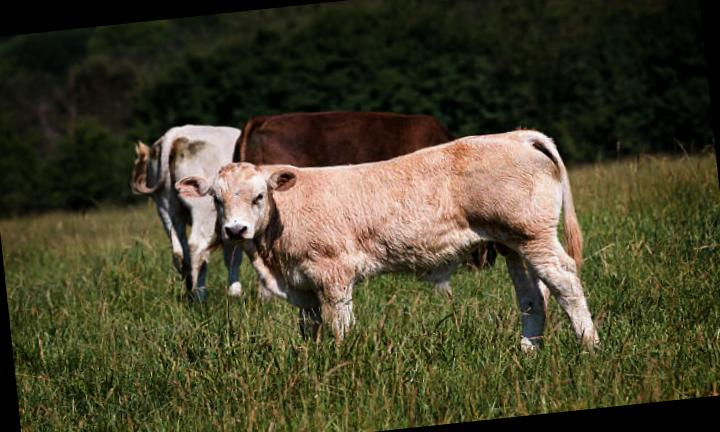Charolais: (176, 130, 598, 343)
